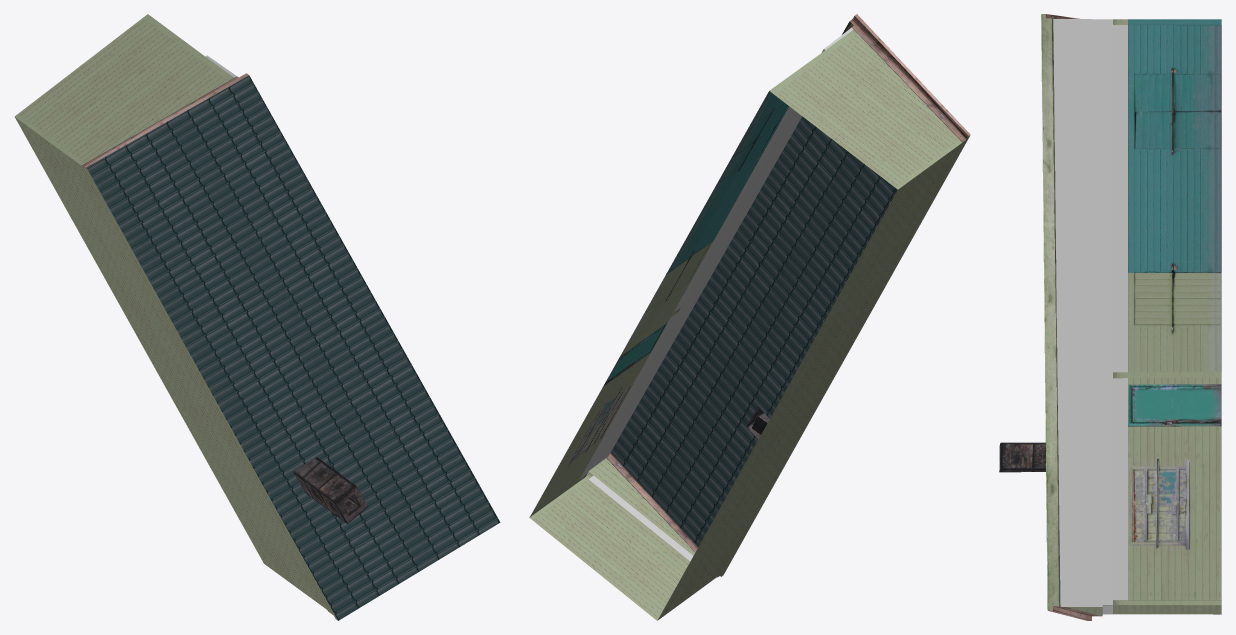
The model's file is Toompuiestee_8b.obj.
3 renders of one model, left to right at view 1: azimuth 30°, elevation 25°; view 2: azimuth 150°, elevation 25°; view 3: azimuth 270°, elevation 25°, orthographic. The views are drawn at different scales.
Visible parts, largest first — view 1: Box001; view 2: Box001; view 3: Box001.
Part boxes in pixels (x1,y1,x2,y2): Box001: (14, 14, 500, 620); Box001: (529, 14, 970, 620); Box001: (999, 14, 1221, 620).
Size of the model in its own units: 8.71 by 12.46 by 4.52.
